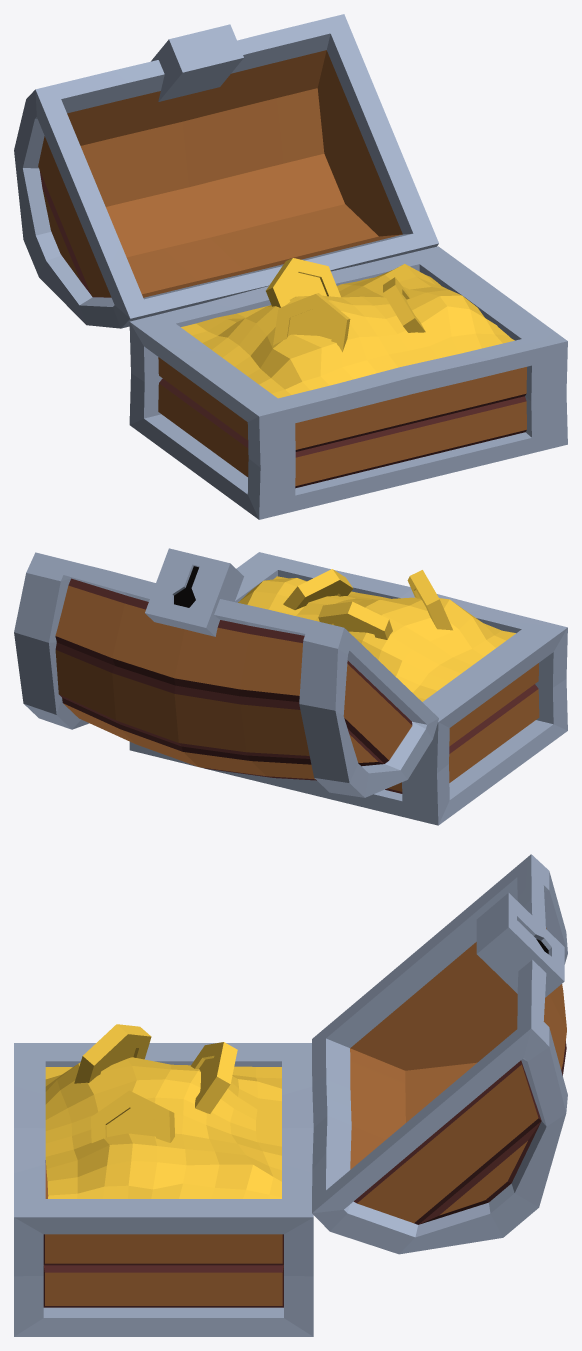
Rendered from LOW POLY CHEST.fbx.
3 views of the same model, one above another, from view 1: azimuth 30°, elevation 25°; view 2: azimuth 150°, elevation 25°; view 3: azimuth 270°, elevation 25° (orthographic). The views are drawn at different scales.
Visible parts, largest first — view 1: chest's gold; view 2: chest's gold; view 3: chest's gold.
Boxes of the visible parts, x1,y1,x2,y2 form: chest's gold: (14,14,567,519); chest's gold: (14,548,567,825); chest's gold: (14,854,567,1336).
Bounding box in the file's own units: 135 × 117 × 172.
